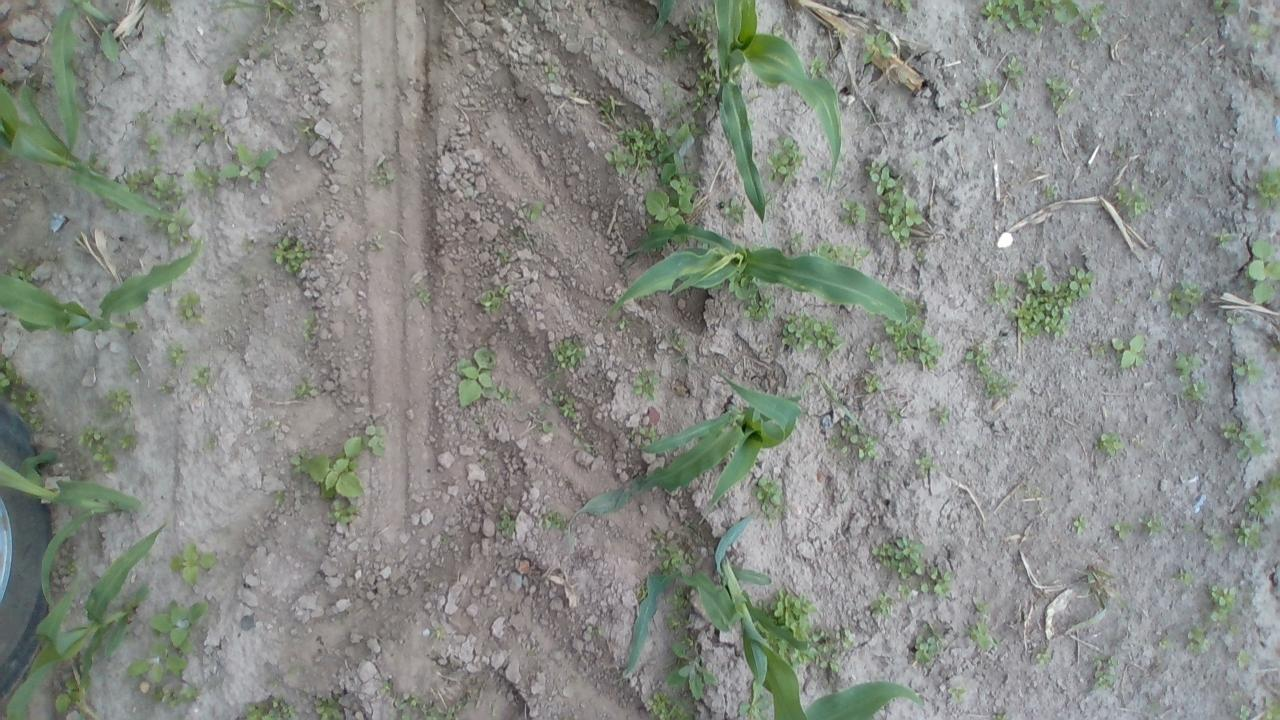Maize: (607, 507, 930, 720), (648, 0, 848, 229), (560, 374, 822, 544), (592, 208, 912, 340), (0, 0, 184, 228), (0, 521, 174, 720), (0, 212, 208, 344), (0, 444, 148, 616), (69, 0, 129, 69)
Weeds: (1004, 262, 1094, 348), (128, 598, 206, 684), (966, 0, 1107, 42), (882, 298, 948, 371), (658, 123, 704, 212), (452, 343, 514, 405), (772, 627, 856, 671), (302, 450, 368, 505), (780, 313, 849, 360), (762, 588, 826, 638), (962, 343, 1015, 403), (876, 186, 930, 244), (75, 420, 130, 476), (869, 534, 930, 584), (1238, 236, 1280, 308), (826, 407, 880, 462), (670, 637, 716, 699), (634, 186, 694, 232), (225, 142, 286, 187), (162, 102, 230, 142), (120, 165, 192, 202), (339, 420, 394, 468), (748, 474, 792, 531), (1214, 412, 1268, 458), (731, 276, 782, 324), (270, 234, 322, 280), (616, 121, 664, 170), (642, 690, 717, 720), (766, 133, 810, 184), (169, 542, 216, 588), (212, 0, 298, 25), (1242, 467, 1280, 523), (804, 236, 874, 264), (650, 532, 699, 572), (1166, 275, 1206, 323), (548, 330, 590, 374), (0, 354, 31, 410), (910, 620, 946, 668), (15, 385, 50, 434), (242, 694, 304, 720), (664, 583, 696, 633), (1202, 582, 1240, 624), (1040, 74, 1076, 118), (1111, 332, 1150, 371), (857, 28, 897, 66), (738, 680, 776, 720), (1088, 652, 1124, 692), (547, 386, 584, 424), (160, 203, 194, 244), (656, 94, 708, 120), (537, 508, 582, 538), (102, 384, 137, 422), (968, 616, 1001, 656), (1252, 167, 1280, 214), (866, 159, 901, 196), (364, 158, 401, 193), (308, 692, 354, 720), (176, 288, 208, 328), (626, 369, 662, 404), (1234, 518, 1268, 555), (493, 504, 524, 544), (1113, 185, 1148, 220), (1230, 356, 1266, 390), (326, 494, 362, 528), (918, 564, 954, 598), (183, 164, 230, 190), (693, 62, 717, 112), (982, 276, 1016, 310), (602, 144, 634, 180), (150, 684, 202, 706), (476, 284, 514, 314), (1097, 427, 1128, 461), (658, 324, 692, 355), (1003, 53, 1030, 90), (597, 96, 628, 128), (836, 196, 867, 227), (1184, 622, 1214, 654), (117, 419, 144, 454), (659, 36, 690, 66), (132, 105, 164, 134), (781, 231, 814, 258), (1208, 224, 1237, 254), (716, 193, 744, 224), (1140, 512, 1170, 540), (1172, 352, 1202, 380), (420, 701, 464, 720), (1178, 376, 1210, 402), (912, 446, 938, 478), (294, 380, 328, 404), (871, 589, 898, 619), (1067, 507, 1094, 536), (684, 12, 714, 38), (580, 614, 606, 644), (166, 342, 192, 372), (300, 116, 324, 148), (288, 450, 316, 477), (412, 282, 436, 313), (993, 102, 1016, 134), (630, 422, 662, 445), (298, 314, 321, 346), (541, 59, 565, 89), (973, 78, 1001, 103), (1028, 642, 1056, 667), (1246, 21, 1272, 47), (361, 231, 389, 255), (929, 402, 954, 428), (946, 678, 971, 704), (970, 597, 995, 623), (189, 364, 213, 391), (395, 690, 427, 710), (958, 95, 982, 121), (860, 368, 884, 394), (861, 340, 885, 366), (536, 414, 560, 440), (695, 36, 717, 64), (201, 432, 229, 454), (608, 314, 638, 334), (1170, 562, 1196, 585), (1038, 178, 1062, 202), (806, 54, 829, 79), (142, 132, 164, 158), (1257, 696, 1280, 720), (887, 399, 906, 428), (1214, 0, 1246, 17), (1206, 528, 1228, 552), (377, 677, 402, 698), (1231, 645, 1253, 668), (1112, 516, 1135, 538), (525, 198, 547, 221), (125, 356, 148, 378), (657, 81, 678, 104), (914, 244, 934, 268), (888, 0, 916, 17), (632, 576, 649, 604), (158, 380, 178, 402), (1233, 701, 1255, 720), (1224, 313, 1248, 330), (434, 623, 454, 643), (1224, 622, 1244, 641), (897, 582, 917, 601), (510, 0, 538, 13), (457, 692, 476, 711), (272, 489, 292, 507), (1156, 635, 1176, 653), (222, 66, 238, 86), (1230, 689, 1248, 705), (580, 437, 596, 455), (434, 530, 452, 546), (1027, 132, 1043, 148), (988, 711, 1010, 720), (398, 711, 417, 720)
